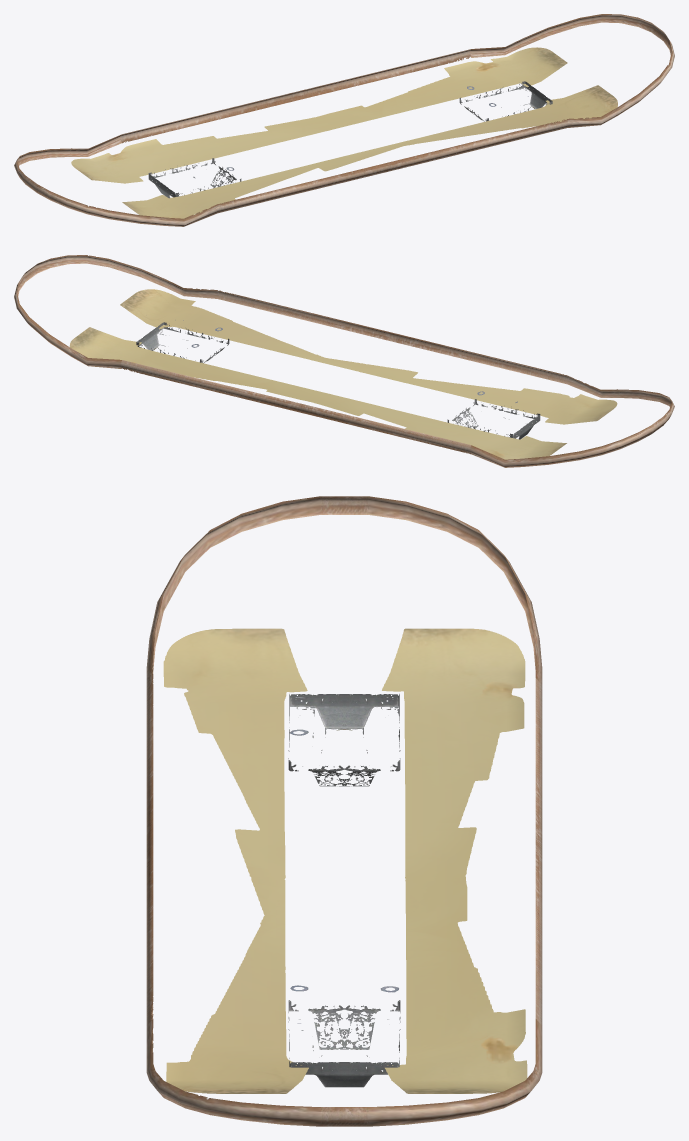
Rendered from board.obj.
The picture shows the model from 3 angles, top to bottom: view 1: azimuth 30°, elevation 25°; view 2: azimuth 150°, elevation 25°; view 3: azimuth 270°, elevation 25°; orthographic projection. The views are drawn at different scales.
Parts seen in each view (by area): view 1: BOARD; view 2: BOARD; view 3: BOARD.
Part boxes in pixels (box(x1,y1,x2,y2)): BOARD: box(14, 14, 674, 226); BOARD: box(14, 255, 674, 467); BOARD: box(146, 496, 542, 1126).
Bounding box in the file's own units: 2.26 × 0.187 × 0.6123.
